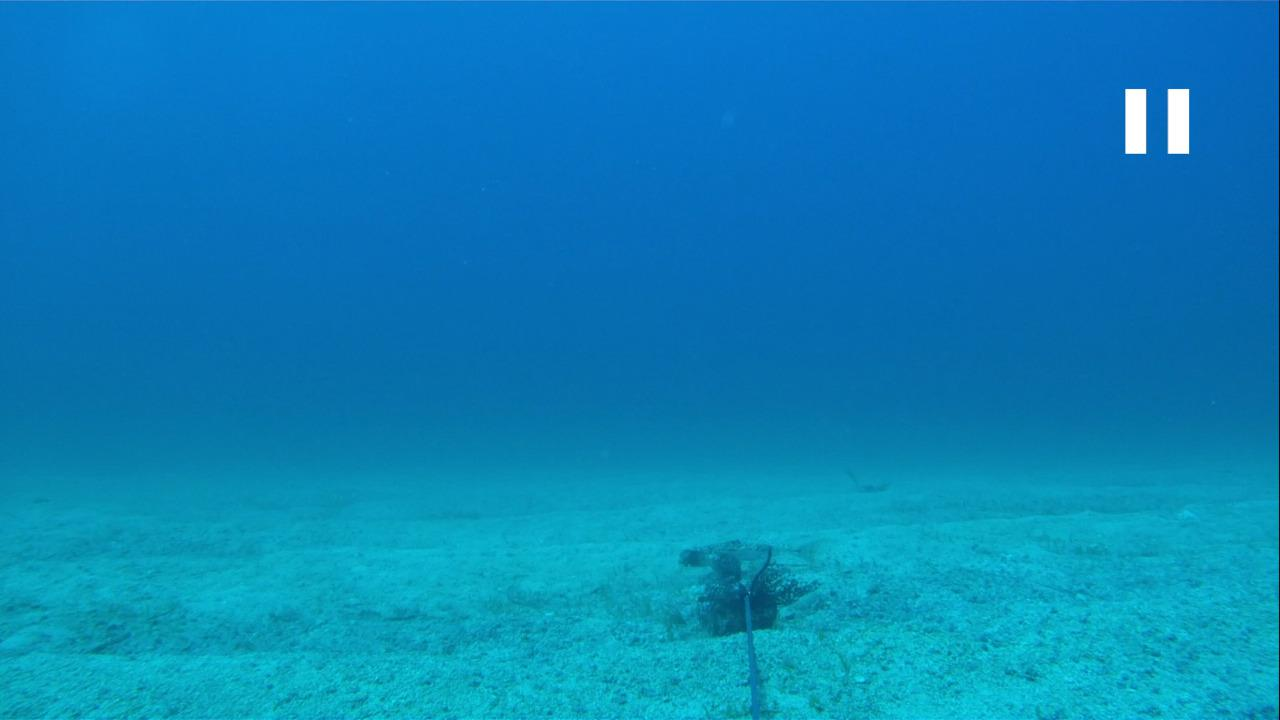dactylopterus: (672, 534, 830, 573)
